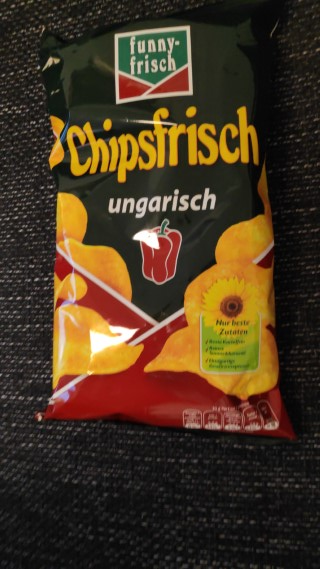chipsfrisch: (30, 1, 302, 452)
